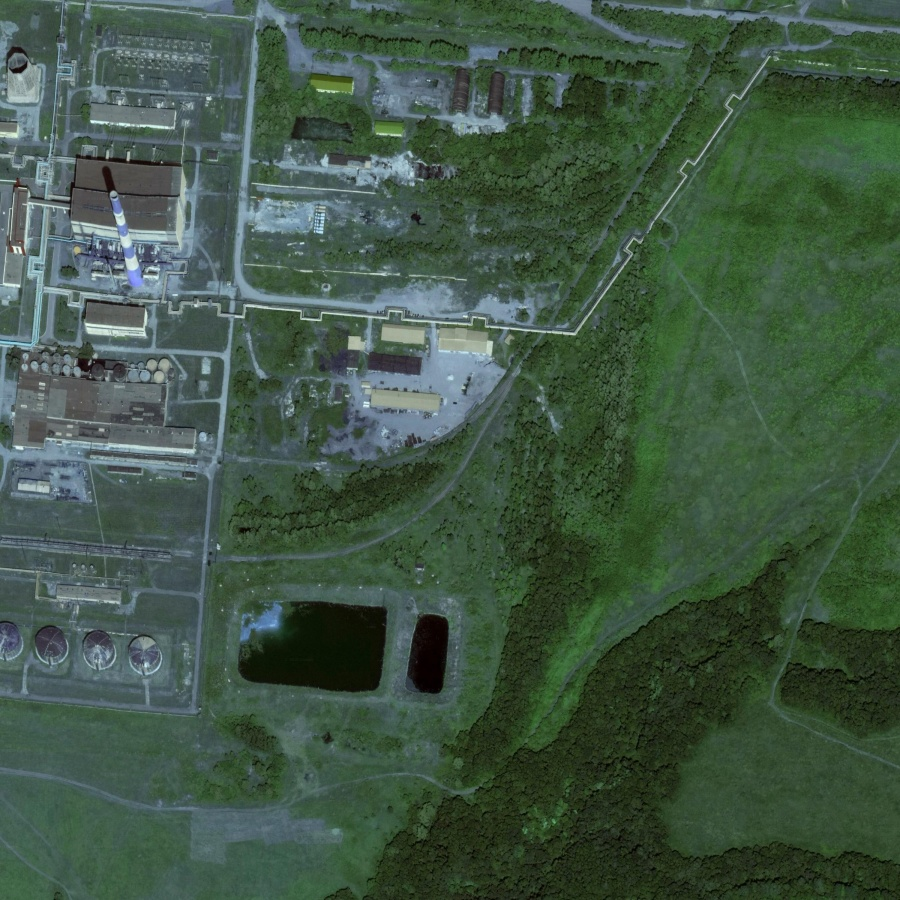PowerPlant: (228, 587, 462, 714)
